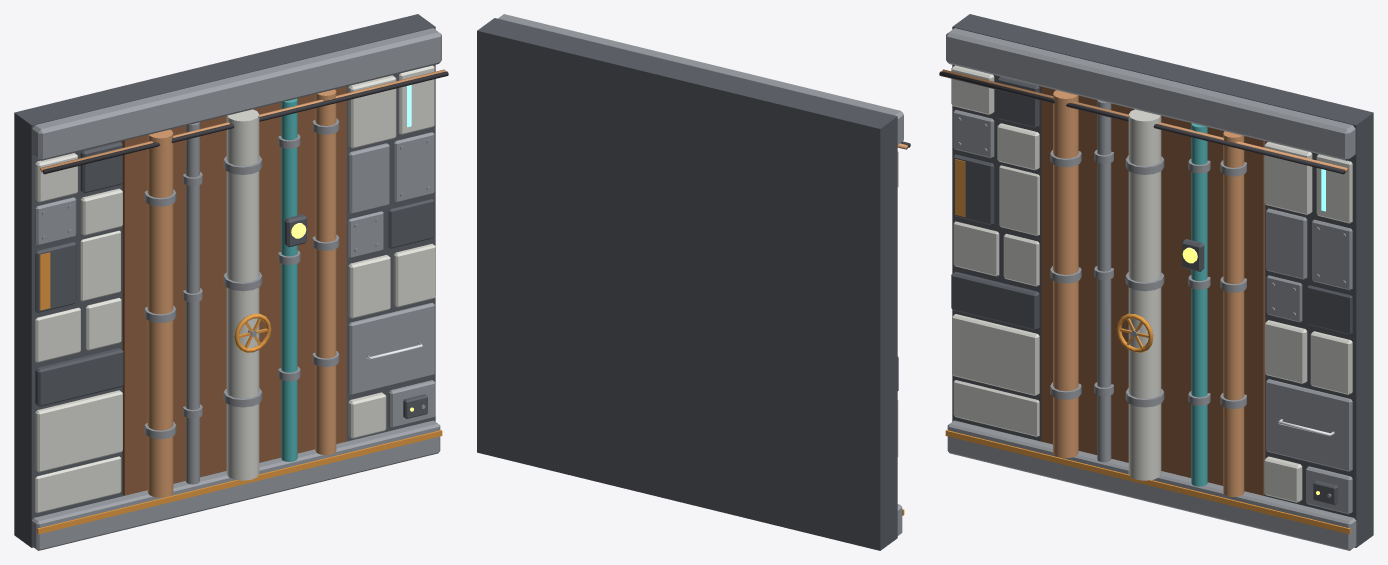
File: wall_pipes.glb
3 renders of one model, left to right at view 1: azimuth 30°, elevation 25°; view 2: azimuth 150°, elevation 25°; view 3: azimuth 330°, elevation 25°, orthographic.
Parts seen in each view (by area): view 1: wall_pipes; view 2: wall_pipes; view 3: wall_pipes.
Boxes of the visible parts, x1,y1,x2,y2 form: wall_pipes: (14,14,448,550); wall_pipes: (477,14,910,550); wall_pipes: (939,14,1373,550).
Size of the model in its own units: 4 by 4 by 0.65.
